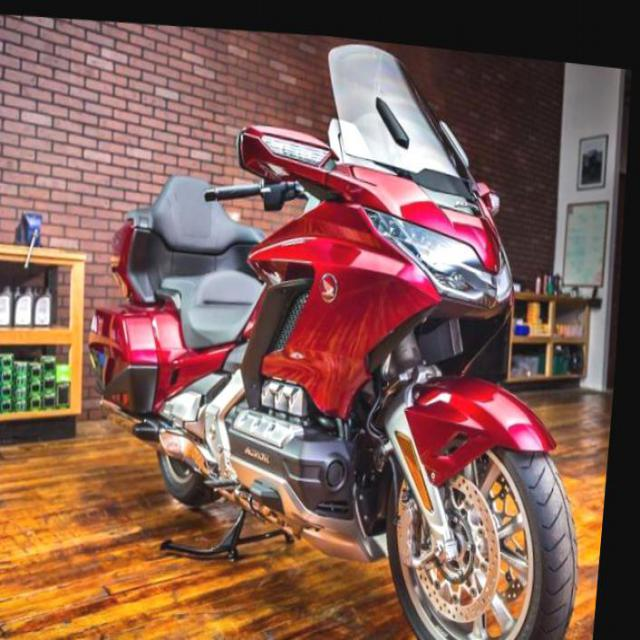Gold Wing: (62, 9, 626, 639)
